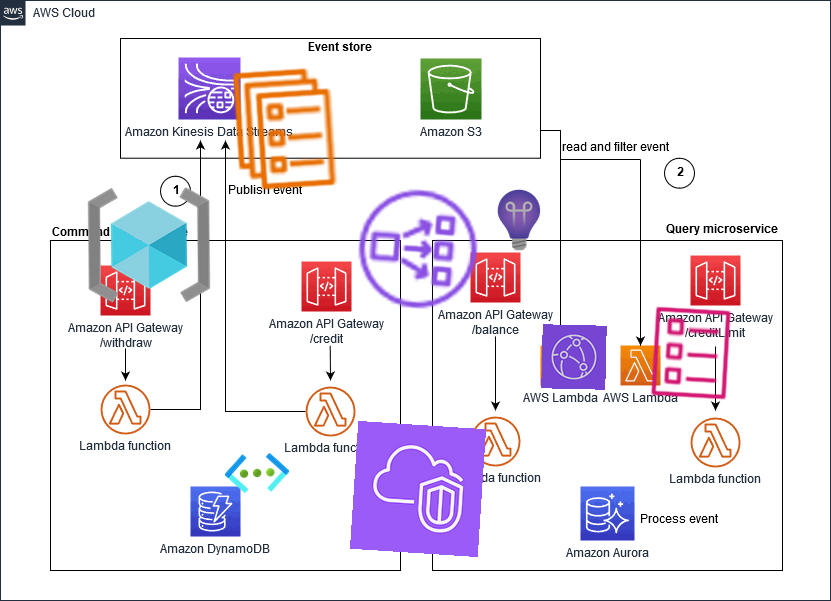aws_amazon_cloudfront: (541, 324, 607, 390)
aws_amazon_virtual_private_cloud: (349, 420, 487, 558)
aws_cloudformation_template: (639, 302, 741, 404)
aws_elastic_container_service_service: (216, 60, 354, 198)
aws_elastic_load_balancing_network_load_balancer: (349, 180, 487, 318)
azure_application_insights: (486, 187, 552, 253)
azure_resource_groups: (84, 180, 214, 310)
azure_virtual_networks: (223, 439, 291, 507)
